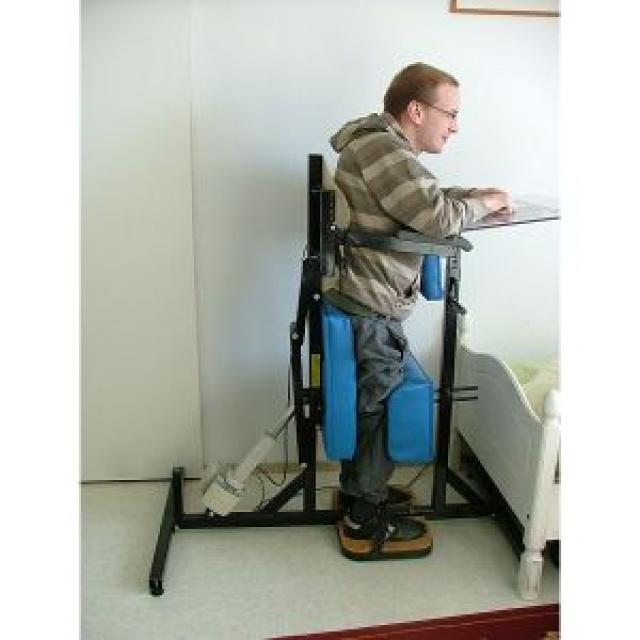adult: (314, 51, 520, 572)
